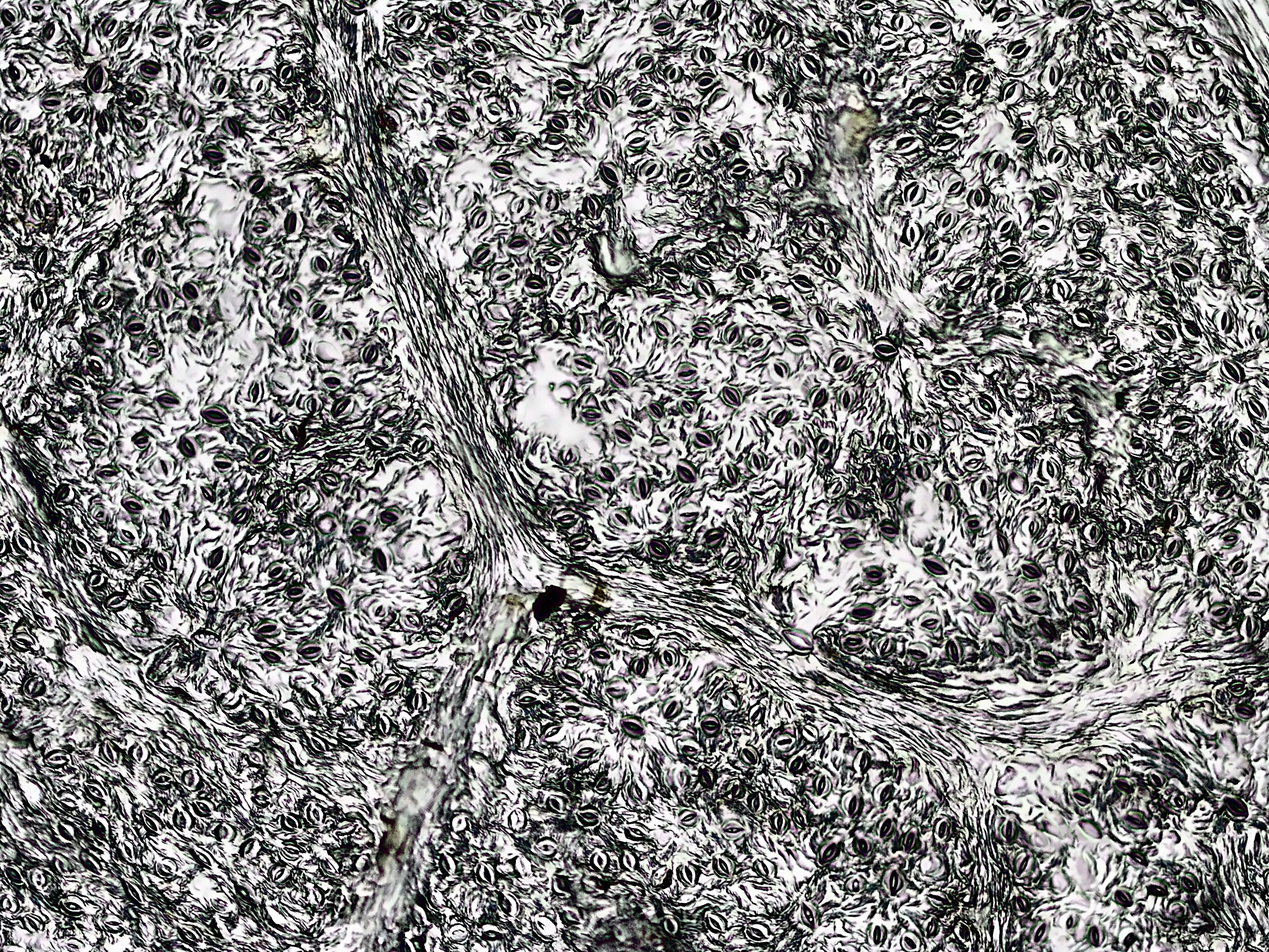stomata: (1039, 58, 1063, 92), (530, 914, 558, 942), (1209, 257, 1233, 288), (1185, 33, 1212, 60), (1222, 794, 1249, 821), (1145, 48, 1171, 76), (710, 852, 736, 880), (33, 245, 58, 274), (180, 103, 203, 134), (190, 630, 222, 652), (592, 83, 617, 111), (469, 206, 493, 235), (27, 286, 50, 316), (675, 863, 701, 889), (670, 106, 698, 130), (920, 554, 949, 577), (842, 789, 864, 819), (83, 779, 108, 805), (1038, 457, 1061, 485), (86, 64, 108, 93), (870, 338, 899, 360), (99, 738, 120, 768), (1220, 358, 1245, 383), (624, 128, 650, 152), (1176, 319, 1202, 343), (1211, 307, 1235, 333), (604, 675, 628, 701), (396, 77, 423, 100), (653, 314, 676, 341), (10, 531, 33, 558), (251, 618, 282, 638), (554, 667, 585, 687), (1171, 258, 1199, 280), (175, 924, 204, 945), (798, 900, 819, 929), (472, 243, 497, 267), (797, 53, 821, 78), (1199, 184, 1223, 209), (972, 392, 996, 417), (1151, 323, 1175, 348), (719, 384, 743, 409), (676, 500, 700, 525), (23, 673, 47, 698), (933, 814, 953, 844), (783, 332, 810, 354), (199, 405, 230, 424), (632, 471, 653, 499), (923, 15, 952, 35), (743, 923, 772, 943), (831, 25, 855, 49), (608, 367, 632, 391), (766, 359, 790, 383), (279, 701, 303, 725), (650, 12, 675, 35), (1002, 80, 1025, 105), (827, 349, 852, 372), (1006, 470, 1029, 495), (1244, 397, 1267, 422), (139, 580, 164, 603), (141, 810, 164, 835), (542, 721, 567, 744), (767, 810, 790, 835), (673, 361, 699, 383), (1120, 243, 1142, 269), (836, 386, 858, 412), (373, 547, 395, 573), (172, 807, 194, 833), (1013, 852, 1035, 878), (59, 894, 86, 915), (927, 889, 954, 910), (1065, 2, 1093, 22), (1014, 426, 1042, 446), (618, 716, 646, 736), (718, 820, 746, 840), (331, 395, 354, 419), (694, 71, 718, 94), (638, 159, 662, 182), (737, 263, 761, 286), (695, 139, 719, 162), (967, 184, 990, 208), (935, 210, 959, 233), (937, 481, 960, 505), (656, 647, 680, 670), (1070, 620, 1093, 644), (81, 326, 110, 345), (365, 431, 394, 450), (582, 194, 604, 219), (1144, 9, 1169, 31), (1243, 100, 1268, 122), (904, 181, 926, 206), (609, 507, 634, 529), (378, 674, 403, 696), (30, 868, 52, 893), (532, 837, 557, 859), (752, 858, 777, 880), (1207, 600, 1232, 622), (398, 12, 424, 33), (972, 475, 993, 501), (1019, 589, 1045, 610), (297, 640, 323, 661), (43, 748, 69, 769), (630, 93, 657, 113), (95, 915, 125, 933), (1240, 584, 1267, 604), (98, 391, 126, 410), (935, 111, 963, 130), (476, 859, 495, 887), (210, 74, 233, 97), (598, 317, 621, 340), (70, 536, 93, 559), (57, 820, 80, 843), (379, 108, 403, 130), (693, 279, 717, 301), (1179, 102, 1203, 124), (1138, 223, 1162, 245), (53, 483, 75, 507), (498, 893, 520, 917), (279, 322, 300, 347), (600, 162, 621, 187), (768, 296, 793, 317), (807, 305, 828, 330), (1099, 78, 1120, 103), (1171, 416, 1196, 437), (768, 406, 793, 427), (690, 428, 715, 449), (826, 477, 851, 498), (960, 450, 985, 471), (102, 546, 127, 567), (123, 880, 144, 905), (445, 923, 470, 944), (1055, 552, 1076, 577), (885, 866, 903, 895), (203, 0, 229, 20), (723, 322, 743, 348), (747, 332, 773, 352), (1073, 76, 1093, 102), (1126, 437, 1152, 457), (569, 354, 595, 374), (945, 638, 965, 664), (1192, 549, 1212, 575), (619, 847, 639, 873), (866, 922, 886, 948), (155, 391, 182, 410), (553, 508, 580, 527), (124, 315, 146, 338), (428, 58, 450, 81), (967, 73, 990, 95), (1198, 152, 1221, 174), (986, 150, 1009, 172), (972, 590, 994, 613), (153, 457, 175, 480), (268, 864, 291, 886), (661, 696, 684, 718), (699, 714, 721, 737), (773, 21, 791, 49), (890, 11, 914, 32), (999, 246, 1023, 267), (1164, 502, 1185, 526), (628, 781, 649, 805), (873, 781, 894, 805), (844, 873, 868, 894), (743, 47, 763, 72), (1076, 248, 1101, 268), (676, 458, 696, 483), (1234, 427, 1254, 452), (208, 545, 228, 570), (150, 768, 175, 788), (812, 774, 832, 799), (660, 914, 680, 939), (1122, 810, 1147, 830), (469, 70, 495, 89), (551, 79, 577, 98), (481, 3, 507, 22), (908, 97, 934, 116), (895, 136, 921, 155), (840, 632, 866, 651), (624, 821, 650, 840), (791, 805, 810, 831), (492, 333, 519, 351), (788, 274, 815, 292), (577, 407, 604, 425), (127, 83, 149, 105), (40, 21, 62, 43), (267, 257, 289, 279), (548, 225, 570, 247), (722, 127, 744, 149), (1037, 181, 1059, 203), (1032, 216, 1054, 238), (1015, 281, 1037, 303), (238, 837, 260, 859), (627, 656, 649, 678), (6, 113, 27, 136), (248, 74, 271, 95), (412, 435, 435, 456), (560, 3, 583, 24), (522, 276, 545, 297), (1047, 146, 1068, 169), (1145, 100, 1166, 123), (952, 269, 975, 290), (806, 386, 827, 409), (719, 462, 740, 485), (977, 355, 1000, 376), (156, 857, 177, 880), (320, 855, 341, 878), (696, 766, 717, 789), (705, 913, 728, 934), (819, 840, 840, 863), (203, 144, 227, 164), (246, 175, 270, 195), (60, 372, 84, 392), (304, 393, 324, 417), (446, 106, 470, 126), (691, 45, 715, 65), (1007, 40, 1031, 60), (903, 222, 923, 246), (925, 242, 945, 266), (938, 370, 962, 390), (911, 430, 931, 454), (613, 421, 633, 445), (862, 566, 886, 586), (1249, 318, 1269, 342), (178, 434, 198, 458), (130, 740, 150, 764), (1070, 595, 1094, 615), (491, 161, 516, 180), (690, 320, 715, 339), (1163, 534, 1182, 559), (1241, 286, 1266, 305), (9, 632, 34, 651), (675, 809, 700, 828), (852, 749, 871, 774), (849, 602, 875, 620), (630, 628, 656, 646), (3, 150, 24, 172), (222, 117, 243, 139), (94, 291, 115, 313), (286, 284, 307, 306), (391, 44, 413, 65), (539, 189, 560, 211), (673, 168, 695, 189), (1050, 279, 1071, 301), (1071, 308, 1093, 329), (648, 539, 670, 560), (181, 770, 203, 791), (279, 841, 301, 862), (588, 850, 609, 872), (739, 745, 761, 766), (150, 26, 173, 46), (26, 0, 49, 20), (8, 60, 28, 83), (443, 1, 466, 21), (720, 233, 740, 256), (781, 164, 801, 187), (992, 6, 1015, 26), (1154, 291, 1177, 311), (559, 443, 579, 466), (813, 435, 833, 458), (747, 450, 767, 473), (1136, 539, 1156, 562), (1174, 459, 1194, 482), (250, 445, 273, 465), (153, 549, 173, 572), (192, 796, 215, 816), (575, 739, 598, 759), (773, 732, 796, 752), (746, 791, 766, 814), (1238, 615, 1258, 638), (96, 466, 123, 483), (903, 826, 920, 853), (248, 219, 272, 238), (434, 28, 458, 47), (878, 33, 902, 52), (1013, 128, 1037, 147), (703, 528, 727, 547), (906, 642, 930, 661), (1082, 521, 1101, 545), (1009, 381, 1033, 400), (1142, 466, 1160, 491), (1062, 439, 1087, 457), (105, 593, 130, 611), (18, 913, 43, 931), (489, 267, 517, 283), (29, 197, 46, 223), (247, 380, 264, 406), (1078, 147, 1095, 173), (243, 244, 264, 265), (311, 254, 332, 275), (729, 159, 750, 180), (906, 36, 927, 57), (1102, 134, 1123, 155), (1230, 182, 1251, 203), (596, 461, 617, 482), (306, 804, 327, 825), (413, 162, 433, 184), (1107, 42, 1127, 64), (786, 438, 806, 460), (1219, 529, 1241, 549), (266, 559, 288, 579), (219, 690, 241, 710), (592, 773, 612, 795), (539, 313, 558, 336), (821, 255, 840, 278), (962, 42, 985, 61), (995, 215, 1014, 238), (880, 430, 899, 453), (939, 414, 958, 437), (131, 432, 154, 451), (116, 840, 135, 863), (438, 853, 457, 876), (578, 806, 601, 825), (747, 702, 766, 725), (787, 752, 806, 775), (851, 832, 870, 855), (1000, 819, 1019, 842), (78, 185, 96, 209), (691, 252, 715, 270), (784, 238, 802, 262), (931, 76, 955, 94), (1099, 187, 1117, 211), (1222, 226, 1246, 244), (1156, 367, 1183, 383), (858, 462, 876, 486), (900, 587, 924, 605), (495, 371, 513, 395), (283, 583, 307, 601), (337, 729, 364, 745), (877, 815, 895, 839), (1210, 80, 1227, 105), (1133, 127, 1158, 144), (1031, 920, 1048, 945), (58, 153, 78, 174), (270, 103, 290, 124), (1134, 181, 1154, 202), (987, 283, 1007, 304), (677, 398, 698, 418), (909, 461, 930, 481), (1036, 619, 1057, 639), (326, 588, 346, 609), (213, 454, 233, 475), (214, 822, 234, 843), (590, 644, 611, 664), (96, 112, 115, 134), (408, 691, 427, 713), (399, 611, 421, 630), (306, 887, 325, 909), (1034, 649, 1056, 668), (934, 135, 960, 151), (540, 253, 563, 271), (1143, 153, 1166, 171), (1021, 516, 1039, 539), (378, 508, 401, 526), (267, 491, 285, 514), (253, 704, 271, 727), (560, 641, 583, 659), (281, 44, 305, 61), (566, 533, 590, 550), (839, 532, 863, 549), (121, 497, 145, 514), (83, 432, 107, 449), (56, 790, 80, 807), (572, 614, 596, 631), (87, 356, 107, 376), (309, 301, 329, 321), (432, 137, 457, 153), (700, 0, 720, 20), (664, 64, 684, 84), (756, 13, 772, 38), (657, 263, 682, 279), (777, 86, 793, 111), (1172, 195, 1197, 211), (724, 779, 744, 799), (1180, 873, 1200, 893), (337, 323, 356, 344), (511, 197, 532, 216), (1073, 221, 1094, 240), (722, 550, 741, 571), (919, 611, 940, 630), (1212, 481, 1233, 500), (87, 570, 108, 589), (1127, 851, 1148, 870), (31, 133, 49, 155), (307, 85, 325, 107), (323, 198, 345, 216), (492, 127, 514, 145), (547, 114, 569, 132), (1113, 356, 1135, 374), (582, 484, 604, 502), (116, 525, 138, 543), (3, 867, 25, 885), (243, 749, 265, 767), (39, 93, 62, 110), (341, 267, 364, 284), (376, 711, 391, 737), (636, 54, 656, 73), (859, 68, 879, 87), (1140, 400, 1160, 419), (646, 401, 665, 421), (1228, 556, 1247, 576), (303, 689, 323, 708), (508, 809, 527, 829), (546, 795, 565, 815), (69, 105, 87, 126), (143, 247, 161, 268), (1207, 439, 1225, 460), (369, 600, 387, 621), (799, 724, 820, 742), (1013, 895, 1031, 916), (1071, 788, 1092, 806), (139, 61, 161, 78), (195, 34, 217, 51), (544, 134, 566, 151), (1146, 769, 1168, 786), (1234, 702, 1256, 719), (516, 690, 539, 706), (515, 855, 531, 878), (677, 741, 700, 757), (945, 178, 964, 197), (425, 624, 444, 643), (560, 776, 579, 795), (485, 102, 503, 122), (522, 11, 540, 31), (962, 514, 982, 532), (1060, 504, 1078, 524), (1242, 501, 1260, 521), (320, 473, 340, 491), (451, 814, 469, 834), (562, 699, 582, 717), (901, 932, 919, 952), (276, 62, 293, 83), (156, 286, 173, 307), (102, 15, 118, 37), (470, 39, 492, 55), (355, 646, 378, 661), (181, 281, 200, 299), (1114, 105, 1132, 124), (232, 505, 250, 524), (449, 557, 468, 575), (198, 581, 216, 600), (1114, 889, 1133, 907), (252, 790, 272, 807), (994, 532, 1008, 556), (336, 671, 357, 687), (507, 236, 529, 251), (571, 314, 586, 336), (884, 480, 899, 502), (277, 525, 299, 540), (479, 927, 501, 942), (162, 505, 175, 530), (334, 226, 352, 244), (875, 636, 893, 654), (878, 522, 897, 539), (308, 735, 327, 752), (1114, 777, 1133, 794), (362, 344, 378, 364), (1021, 563, 1041, 579), (281, 815, 301, 831), (1088, 926, 1104, 946), (1064, 408, 1085, 423), (856, 0, 878, 14), (1227, 681, 1246, 697), (261, 649, 281, 664), (129, 114, 146, 131), (1062, 912, 1079, 929), (938, 307, 962, 319), (199, 485, 215, 503), (421, 576, 437, 594), (322, 376, 344, 389), (336, 820, 355, 835), (1148, 883, 1168, 897), (284, 212, 297, 233), (187, 315, 203, 331), (350, 524, 369, 537), (925, 919, 938, 938), (146, 342, 163, 356), (847, 501, 858, 519)
